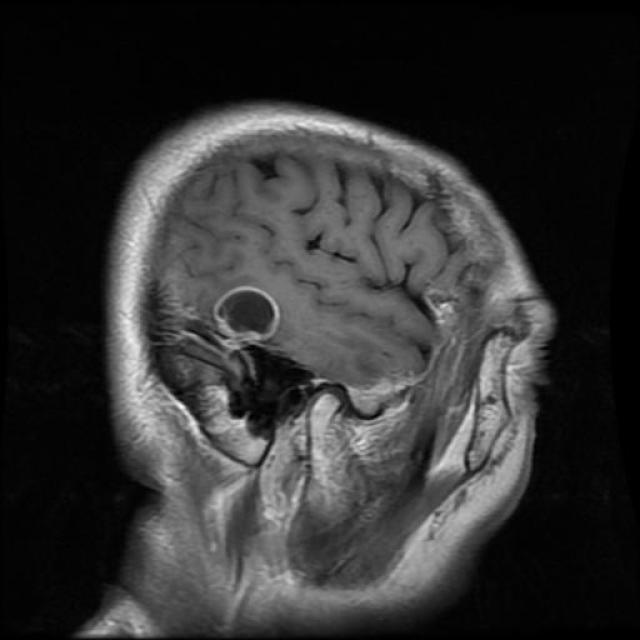glioma: (215, 282, 285, 342)
